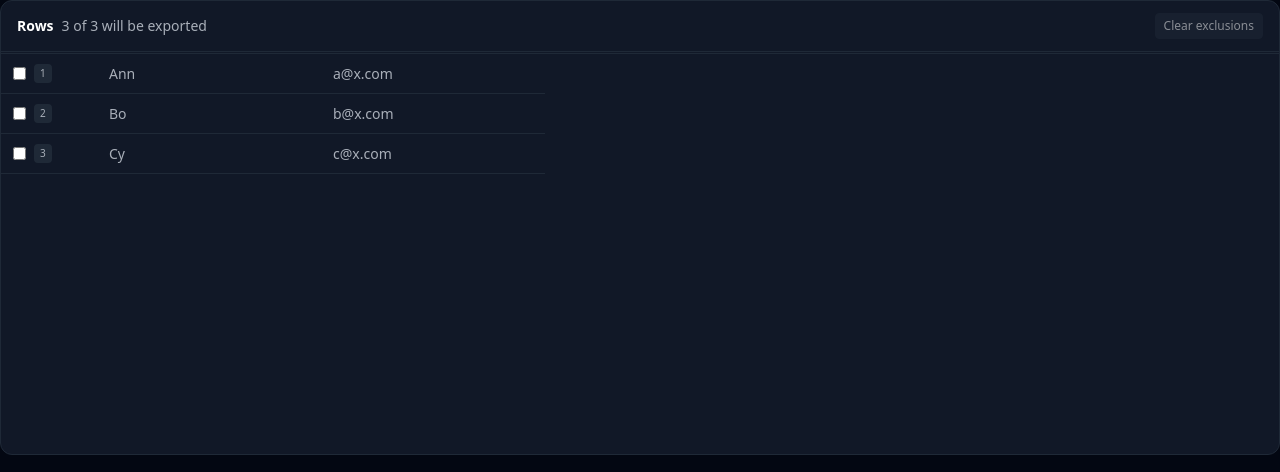
Scenario: RowExclusionPanel › a checkbox click excludes the row in the store and updates the summary
The width and height of the screenshot is (1280, 472).
Check: the text "3 of 3 will be exported" is shown, box [62,16,207,35]
Click the checkbox named "Exclude row 1".
click(20, 74)  # box [13,67,26,80]
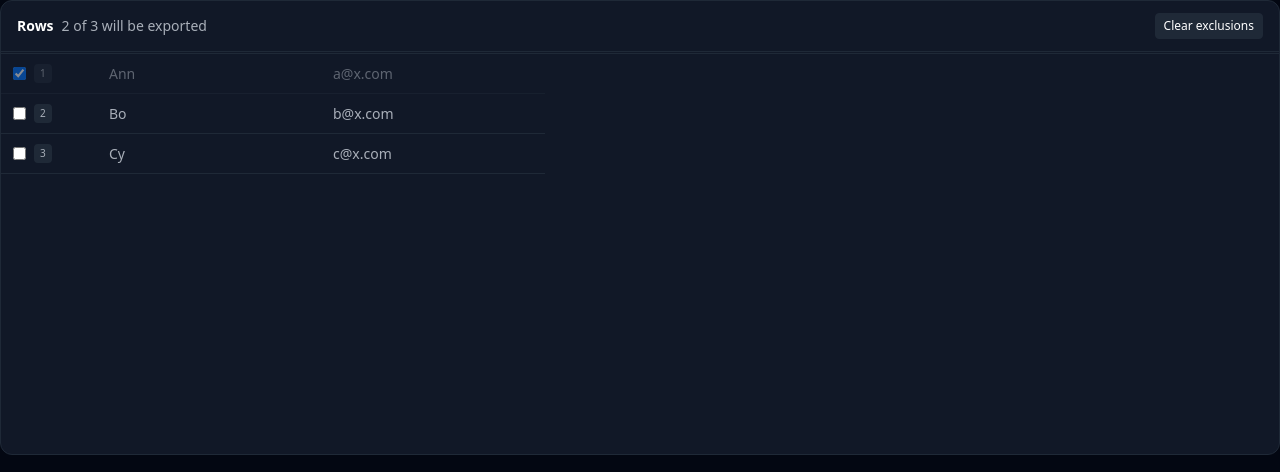
Check: the checkbox named "Exclude row 1" is checked, box [13,67,26,80]
Check: the text "2 of 3 will be exported" is shown, box [62,16,207,35]
